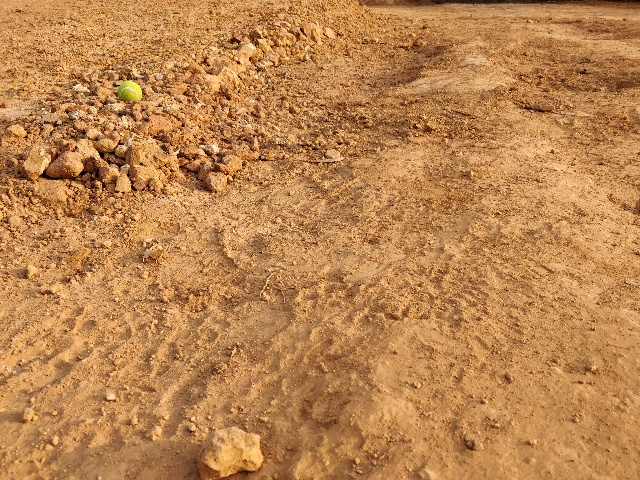ball: (112, 79, 147, 108)
